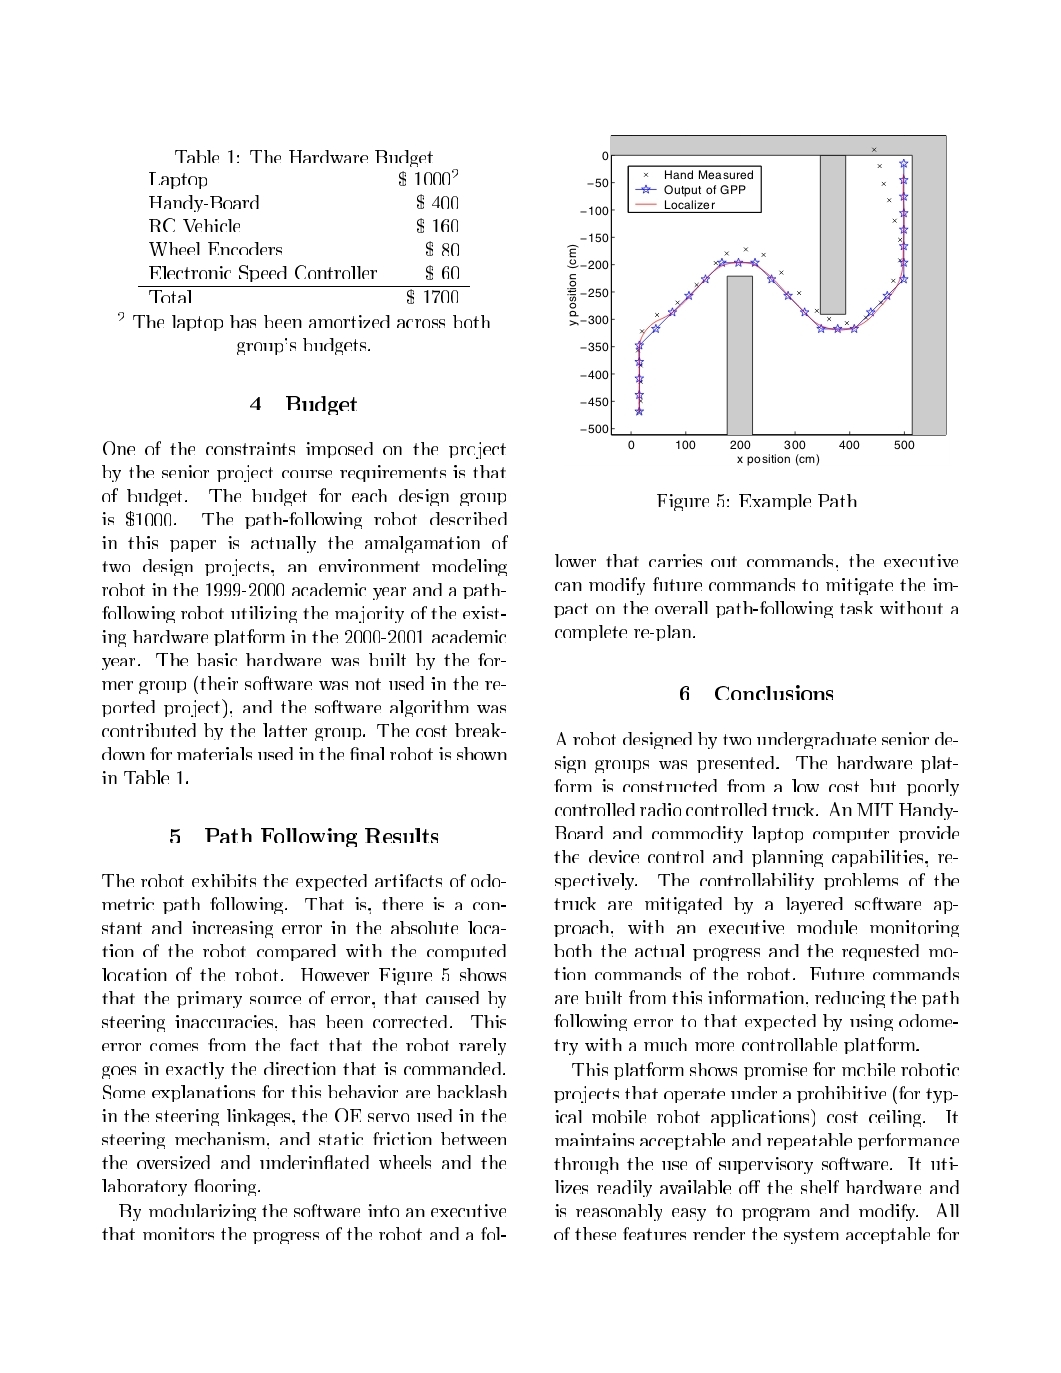Table: (138, 150, 469, 303)
figure: (567, 135, 946, 465)
